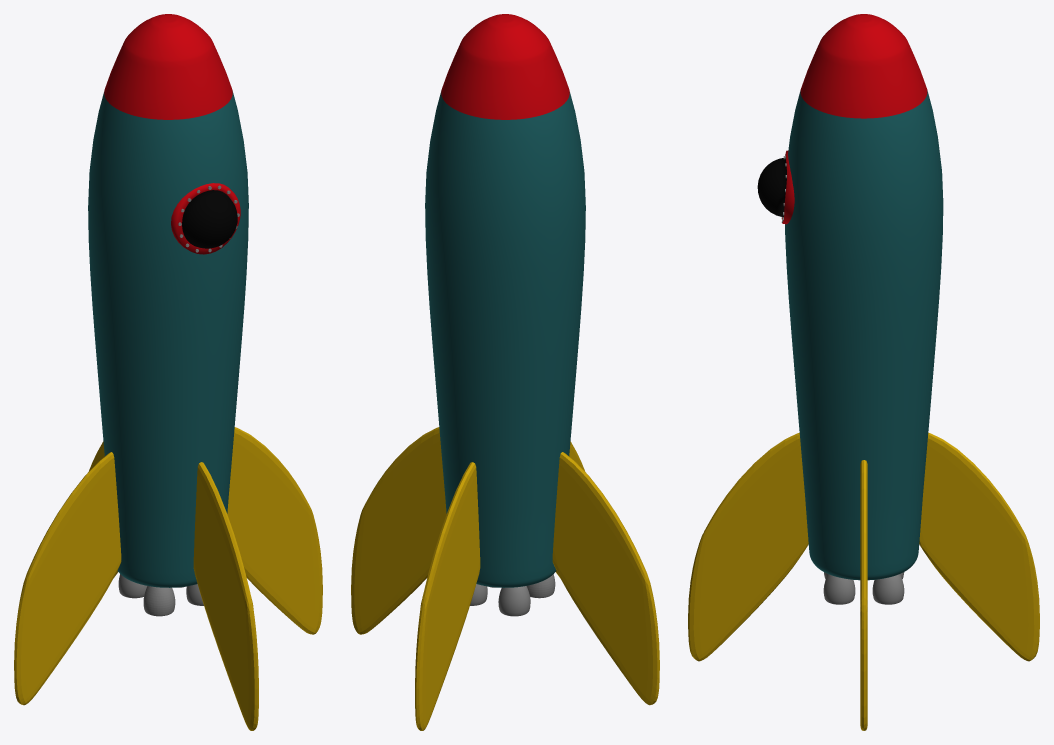
File: rocket_model2.fbx
3 views of the same model, side by side, from view 1: azimuth 30°, elevation 25°; view 2: azimuth 150°, elevation 25°; view 3: azimuth 270°, elevation 25° (orthographic).
Parts seen in each view (by area): view 1: Cylinder, Cube.002, Cube, Cube.001, Sphere, Cylinder.001; view 2: Cylinder, Cube.002, Cube, Cube.003, Cylinder.004; view 3: Cylinder, Cube.001, Cube.003, Cube, Sphere, Cylinder.002, Cylinder.003.
Part boxes in pixels (x1,y1,x2,y2): Cylinder: [88, 14, 248, 587]; Cube.002: [14, 452, 121, 705]; Cube: [227, 427, 322, 634]; Cube.001: [193, 462, 258, 730]; Sphere: [171, 183, 240, 254]; Cylinder.001: [143, 586, 175, 616]; Cylinder: [425, 14, 585, 587]; Cube.002: [552, 452, 659, 705]; Cube: [351, 427, 446, 634]; Cube.003: [415, 462, 480, 730]; Cylinder.004: [498, 586, 530, 616]; Cylinder: [785, 14, 943, 580]; Cube.001: [688, 432, 808, 661]; Cube.003: [919, 432, 1039, 661]; Cube: [860, 460, 867, 730]; Sphere: [757, 150, 794, 224]; Cylinder.002: [823, 574, 855, 604]; Cylinder.003: [872, 574, 904, 604].
Size of the model in its own units: 554 by 1115 by 554.
